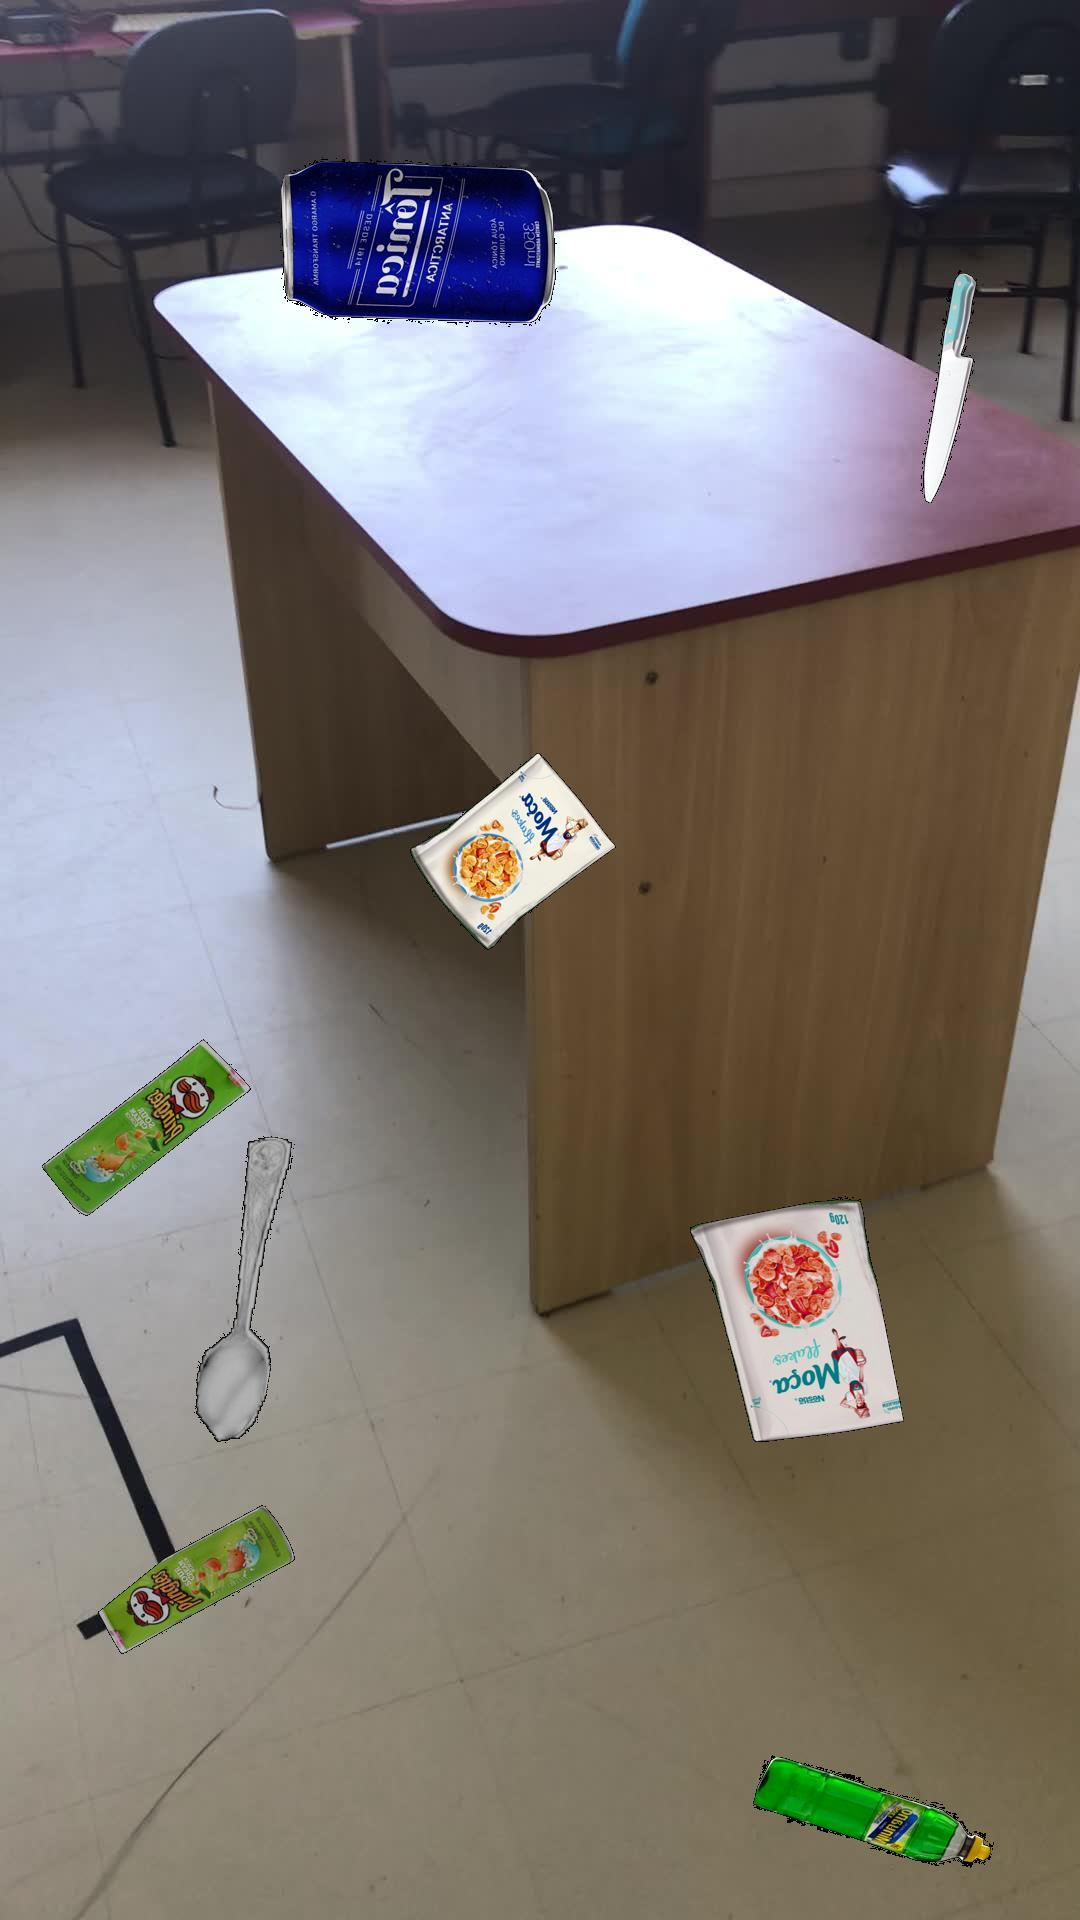cleaner: (752, 1754, 992, 1866)
corn flakes: (688, 1196, 902, 1440), (409, 752, 615, 948)
knife: (923, 269, 976, 501)
pringles: (41, 1038, 249, 1215), (96, 1503, 294, 1652)
spoon: (194, 1134, 290, 1440)
tonic: (280, 157, 555, 323)
